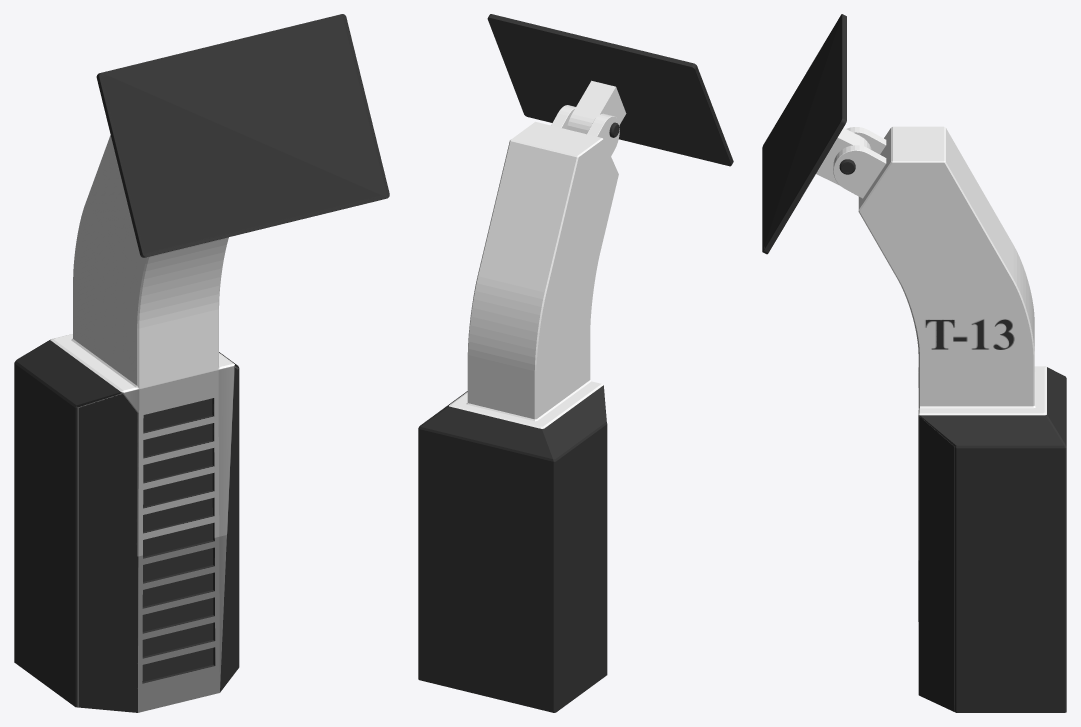
Rendered from controller_tower_1.fbx.
3 views of the same model, side by side, from view 1: azimuth 30°, elevation 25°; view 2: azimuth 150°, elevation 25°; view 3: azimuth 270°, elevation 25° (orthographic). The views are drawn at different scales.
Visible parts, largest first — view 1: controller_tower_lp; view 2: controller_tower_lp; view 3: controller_tower_lp.
Part boxes in pixels (bbox=[...]): controller_tower_lp: bbox=[14, 14, 389, 712]; controller_tower_lp: bbox=[418, 14, 733, 712]; controller_tower_lp: bbox=[762, 14, 1066, 712].
Size of the model in its own units: 107 by 285 by 128.
